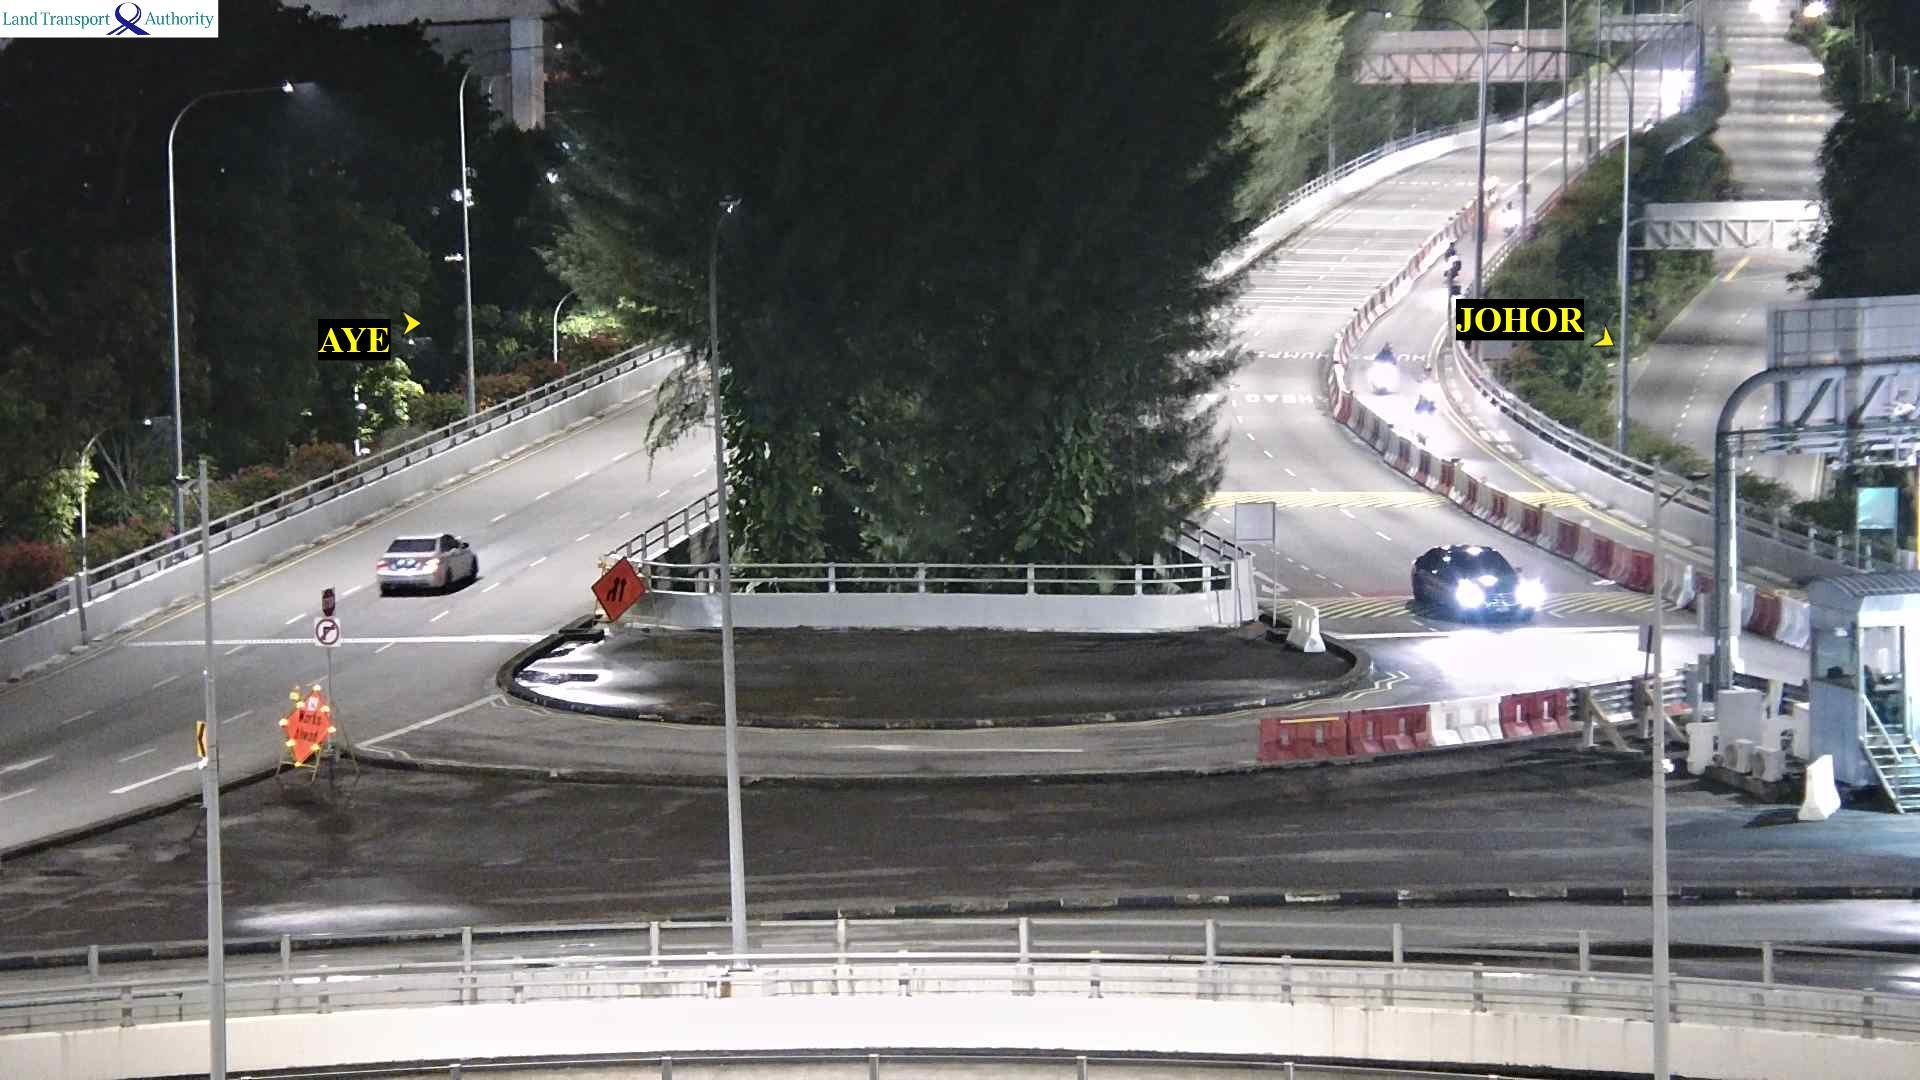vehicle-secondlink-johor: (1412, 542, 1533, 632), (1368, 343, 1400, 395), (1417, 362, 1441, 415), (1443, 238, 1468, 284)
vehicle-secondlink-singapore: (374, 530, 473, 591)
